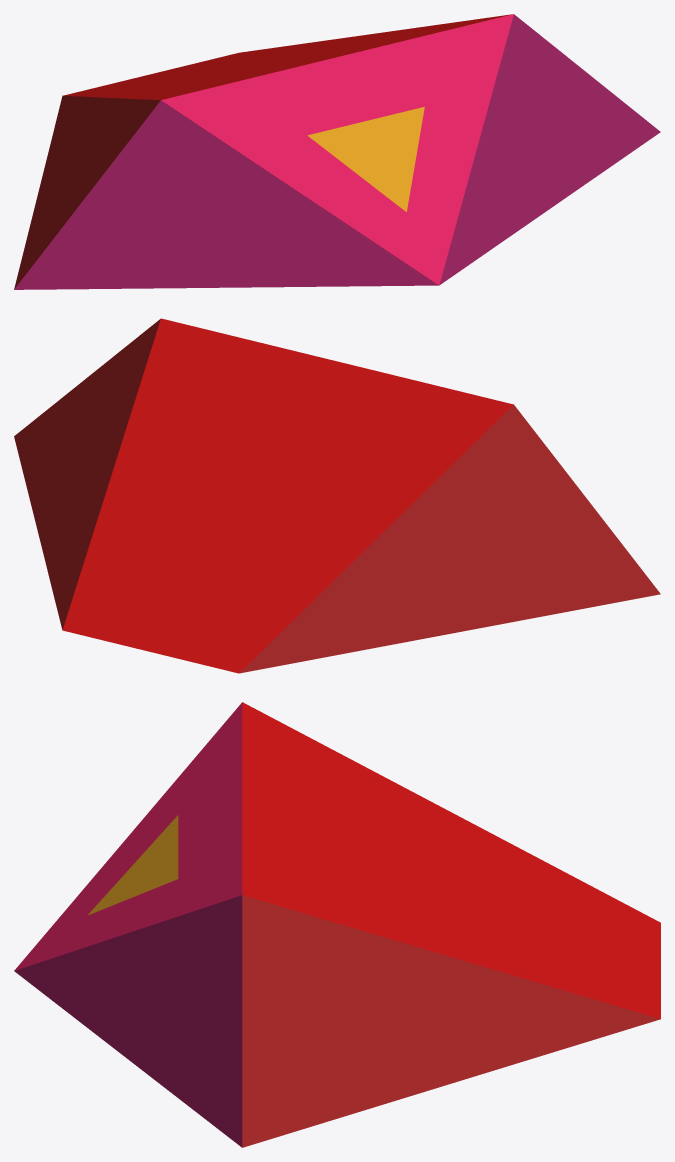
The model's file is arc_moray_med.glb.
3 views of the same model, one above another, from view 1: azimuth 30°, elevation 25°; view 2: azimuth 150°, elevation 25°; view 3: azimuth 270°, elevation 25° (orthographic). The views are drawn at different scales.
Visible parts, largest first — view 1: griff_arcelite_moraymed; view 2: griff_arcelite_moraymed; view 3: griff_arcelite_moraymed.
Boxes of the visible parts, left/top/right/bottom form: griff_arcelite_moraymed: left=14, top=14, right=660, bottom=289; griff_arcelite_moraymed: left=14, top=318, right=660, bottom=673; griff_arcelite_moraymed: left=14, top=702, right=660, bottom=1147.
Bounding box in the file's own units: 0.836 × 0.19 × 0.646.
1 material, 1 textured.
